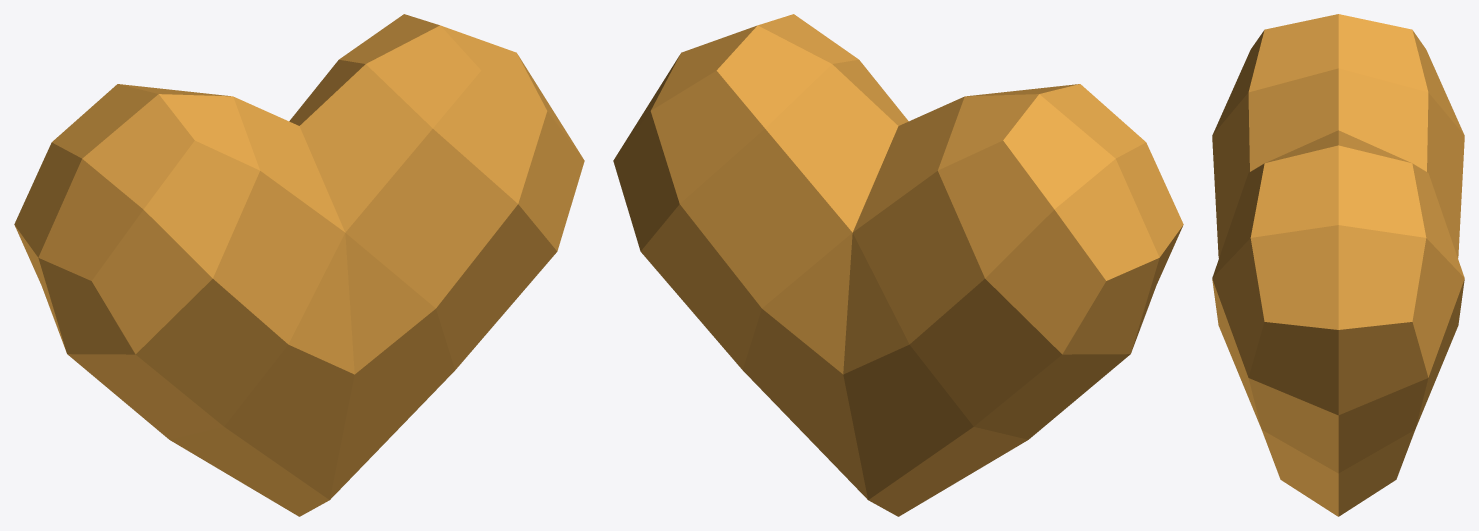
File: heart.fbx
3 views of the same model, side by side, from view 1: azimuth 30°, elevation 25°; view 2: azimuth 150°, elevation 25°; view 3: azimuth 270°, elevation 25° (orthographic). The views are drawn at different scales.
Parts seen in each view (by area): view 1: heart; view 2: heart; view 3: heart.
Part boxes in pixels (x1,y1,x2,y2): heart: [14, 14, 584, 516]; heart: [613, 14, 1183, 516]; heart: [1212, 14, 1464, 516].
Bounding box in the file's own units: 0.4527 × 0.3787 × 0.1983.
